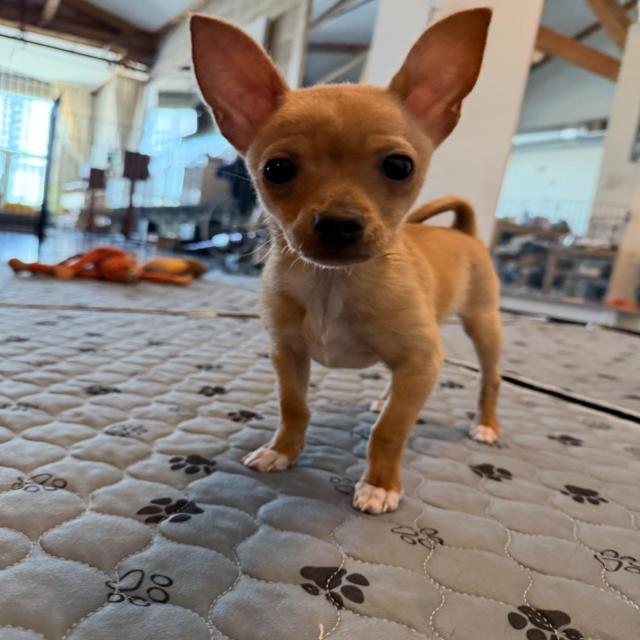chihuahua_dog: (178, 0, 520, 280)
